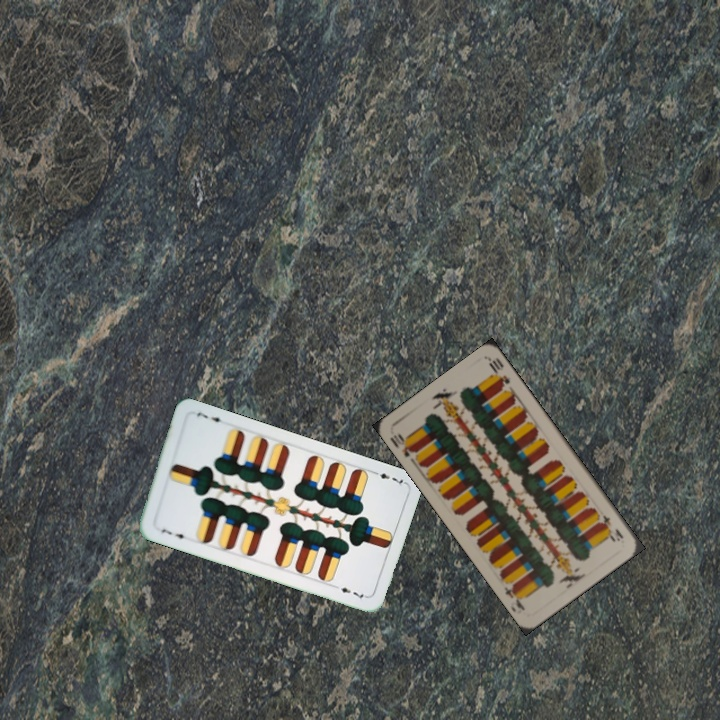E10: (386, 429, 421, 462), (597, 511, 626, 544)
E7: (368, 467, 407, 487), (157, 525, 190, 543)
